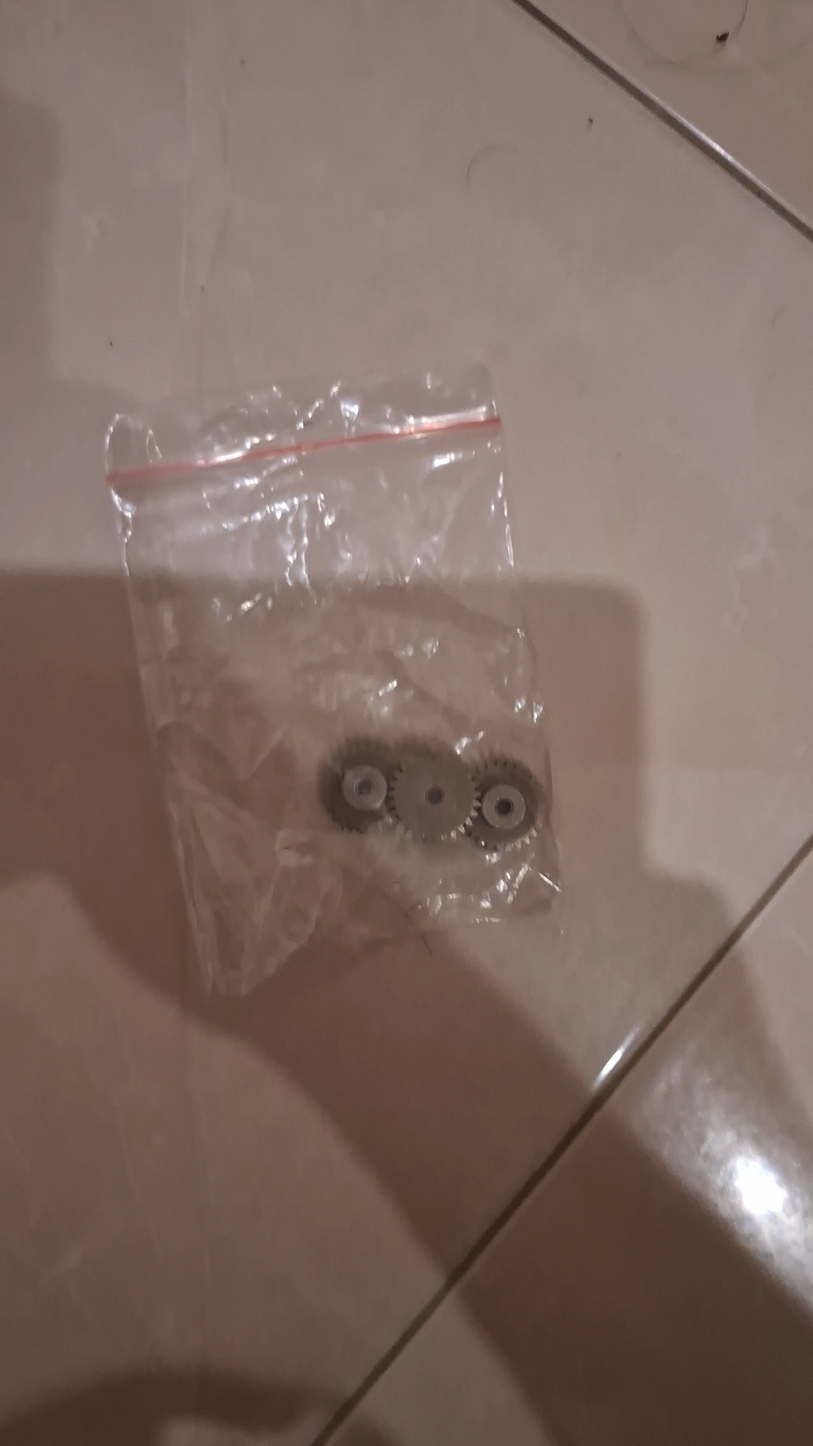spur gear: (388, 746, 475, 844), (319, 739, 395, 831), (468, 757, 541, 849)
